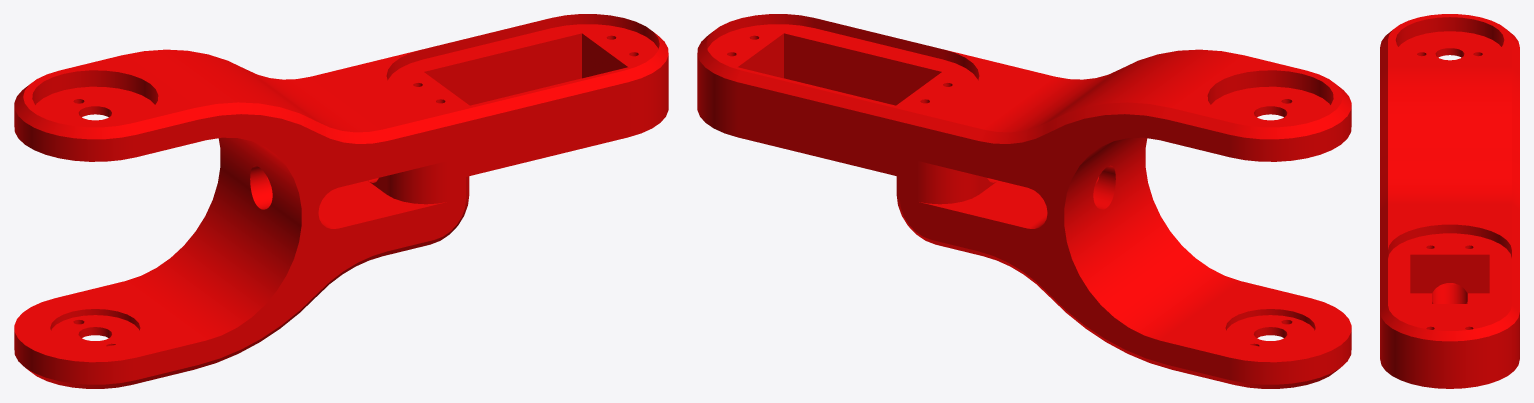
File: shoulder.gltf
3 views of the same model, side by side, from view 1: azimuth 30°, elevation 25°; view 2: azimuth 150°, elevation 25°; view 3: azimuth 270°, elevation 25° (orthographic). The views are drawn at different scales.
Visible parts, largest first — view 1: Solid1; view 2: Solid1; view 3: Solid1.
Part boxes in pixels (x1,y1,x2,y2): Solid1: (14, 14, 668, 388); Solid1: (697, 14, 1351, 388); Solid1: (1380, 14, 1519, 388).
Bounding box in the file's own units: 0.162 × 0.064 × 0.036.
